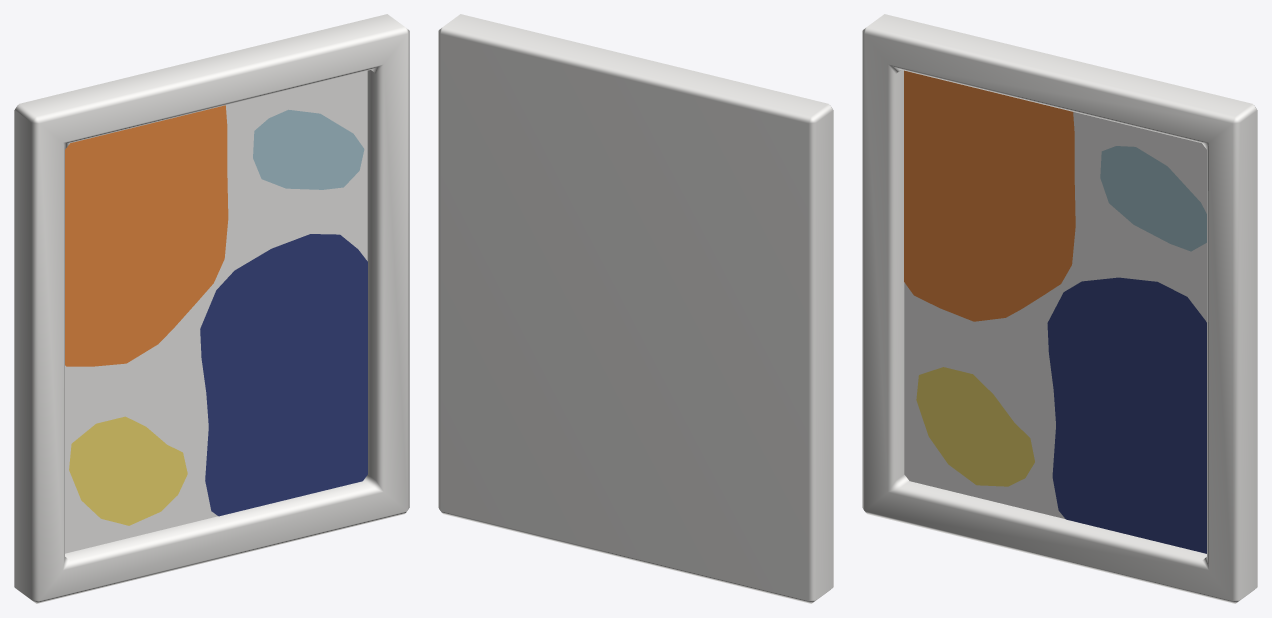
Rendered from Frame_1.glb.
3 views of the same model, side by side, from view 1: azimuth 30°, elevation 25°; view 2: azimuth 150°, elevation 25°; view 3: azimuth 330°, elevation 25° (orthographic).
Visible parts, largest first — view 1: Painting_18; view 2: Painting_18; view 3: Painting_18.
Boxes of the visible parts, x1,y1,x2,y2 form: Painting_18: (14,14,409,603); Painting_18: (438,14,833,603); Painting_18: (862,14,1257,603).
Size of the model in its own units: 0.9811 by 1.21 by 0.1034.
Materials: 1 (1 with a texture image).
